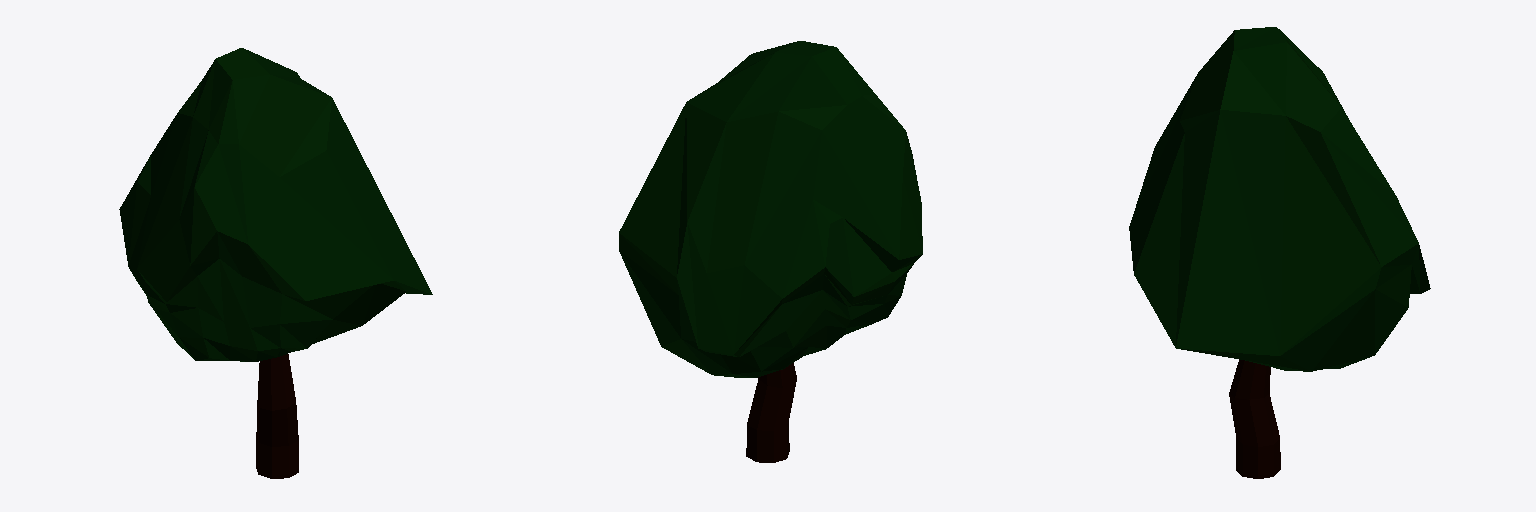
The model's file is tree.obj.
The picture shows the model from 3 angles: view 1: azimuth 30°, elevation 25°; view 2: azimuth 150°, elevation 25°; view 3: azimuth 270°, elevation 25°; orthographic projection.
Parts seen in each view (by area): view 1: Cube.032, Cylinder.086; view 2: Cube.032, Cylinder.086; view 3: Cube.032, Cylinder.086.
Boxes of the visible parts, x1=… form: Cube.032: x1=119, y1=48, x2=432, y2=361; Cylinder.086: x1=256, y1=354, x2=298, y2=478; Cube.032: x1=619, y1=41, x2=922, y2=377; Cylinder.086: x1=746, y1=363, x2=796, y2=462; Cube.032: x1=1129, y1=27, x2=1430, y2=371; Cylinder.086: x1=1229, y1=359, x2=1280, y2=478.
Size of the model in its own units: 13.01 by 20.74 by 13.58.